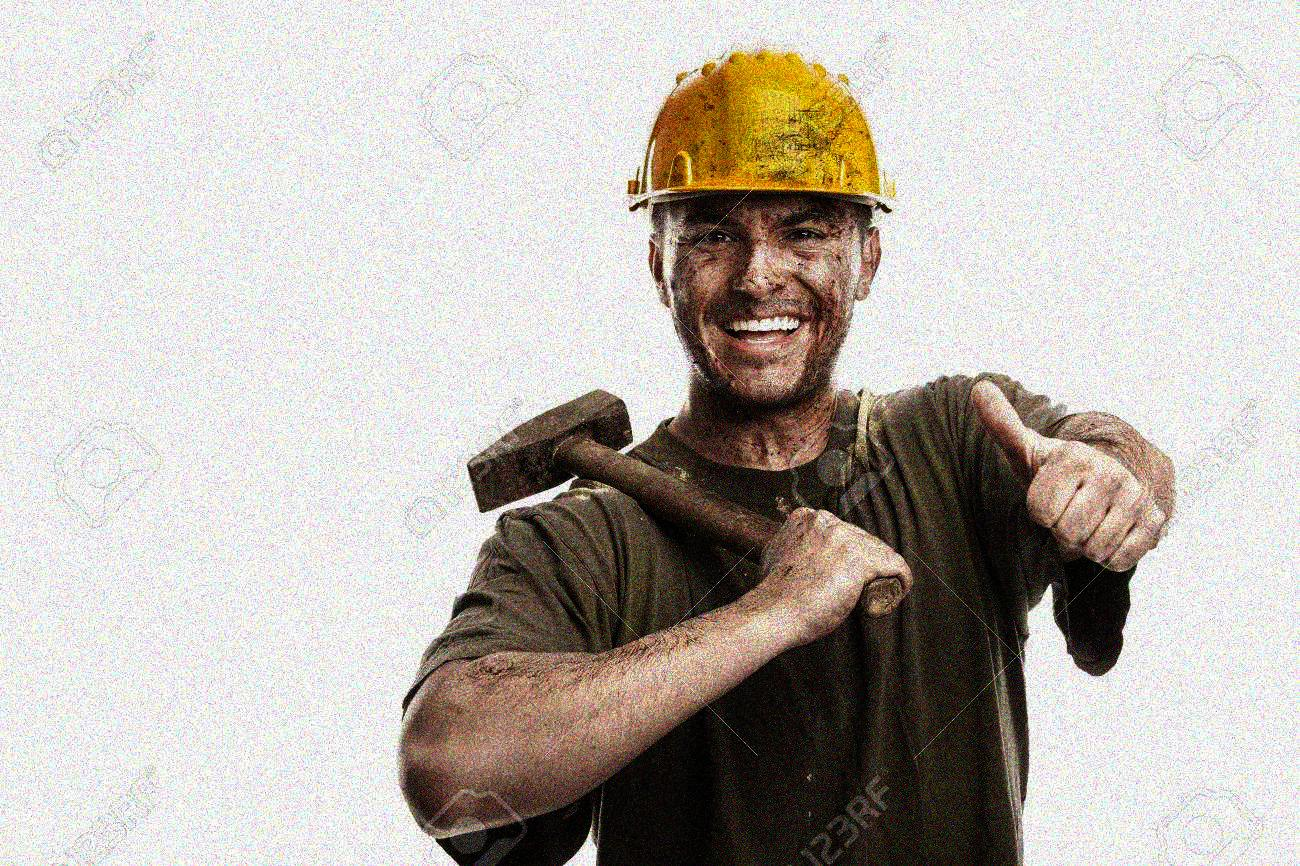helmet: (625, 36, 901, 411)
